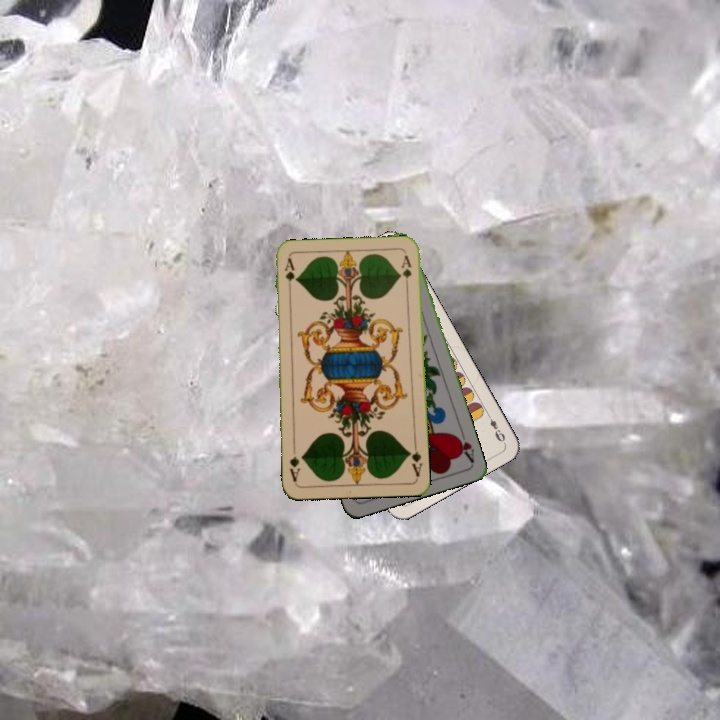E9: (483, 408, 508, 445)
GA: (404, 439, 425, 479), (280, 255, 297, 295)
HA: (451, 425, 477, 465)
